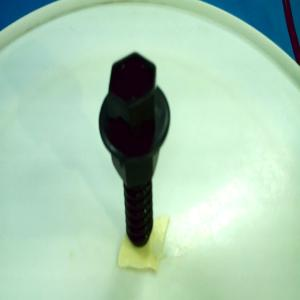parafuso: (97, 50, 172, 249), (99, 50, 172, 248)
